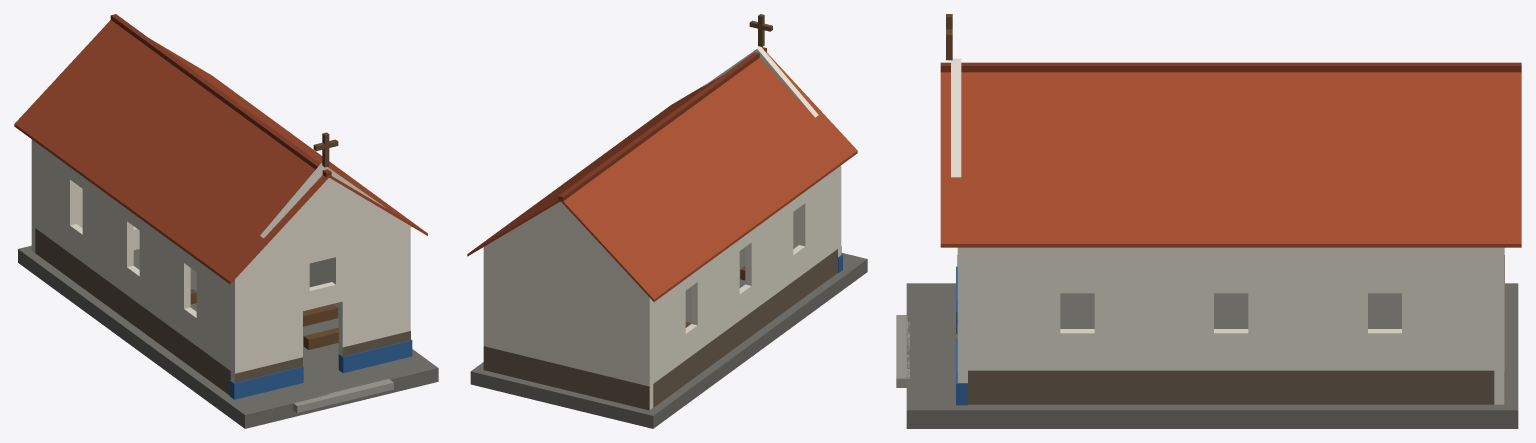
The model's file is capela_a.glb.
3 renders of one model, left to right at view 1: azimuth 30°, elevation 25°; view 2: azimuth 150°, elevation 25°; view 3: azimuth 270°, elevation 25°, orthographic. The views are drawn at different scales.
Visible parts, largest first — view 1: capela_a; view 2: capela_a; view 3: capela_a.
Boxes of the visible parts, x1,y1,x2,y2 form: capela_a: (14,14,438,428); capela_a: (467,14,867,428); capela_a: (896,14,1521,428).
Size of the model in its own units: 9 by 11.3 by 18.3.
